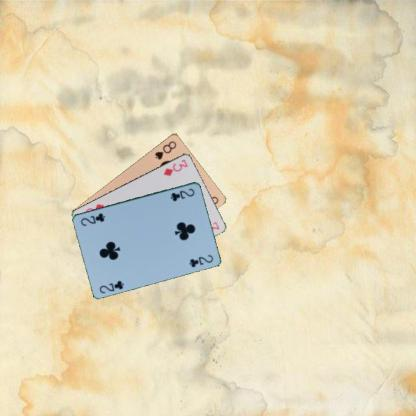2c: (168, 186, 196, 202), (97, 278, 125, 294)
3d: (161, 156, 189, 177)
8s: (152, 138, 177, 161)
